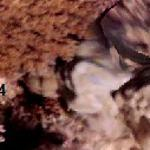alive: (1, 3, 148, 147)
